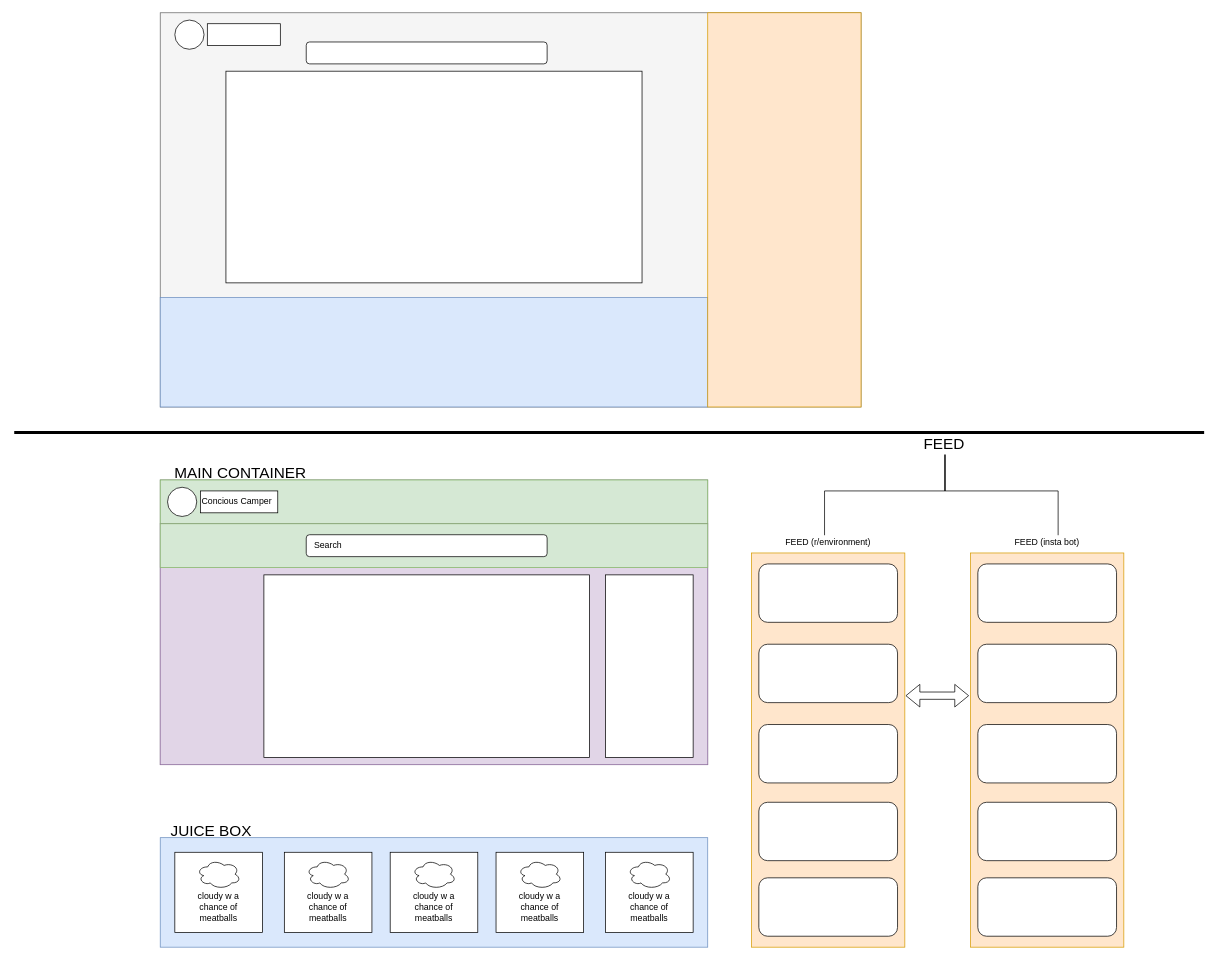
This 1218x960 diagram has some shape labels left out. Each missing label, with the centre of its shape:
"Did you know?" goes at point 649,665.
"GOOGLE STREET VIEW" goes at point 426,665.
